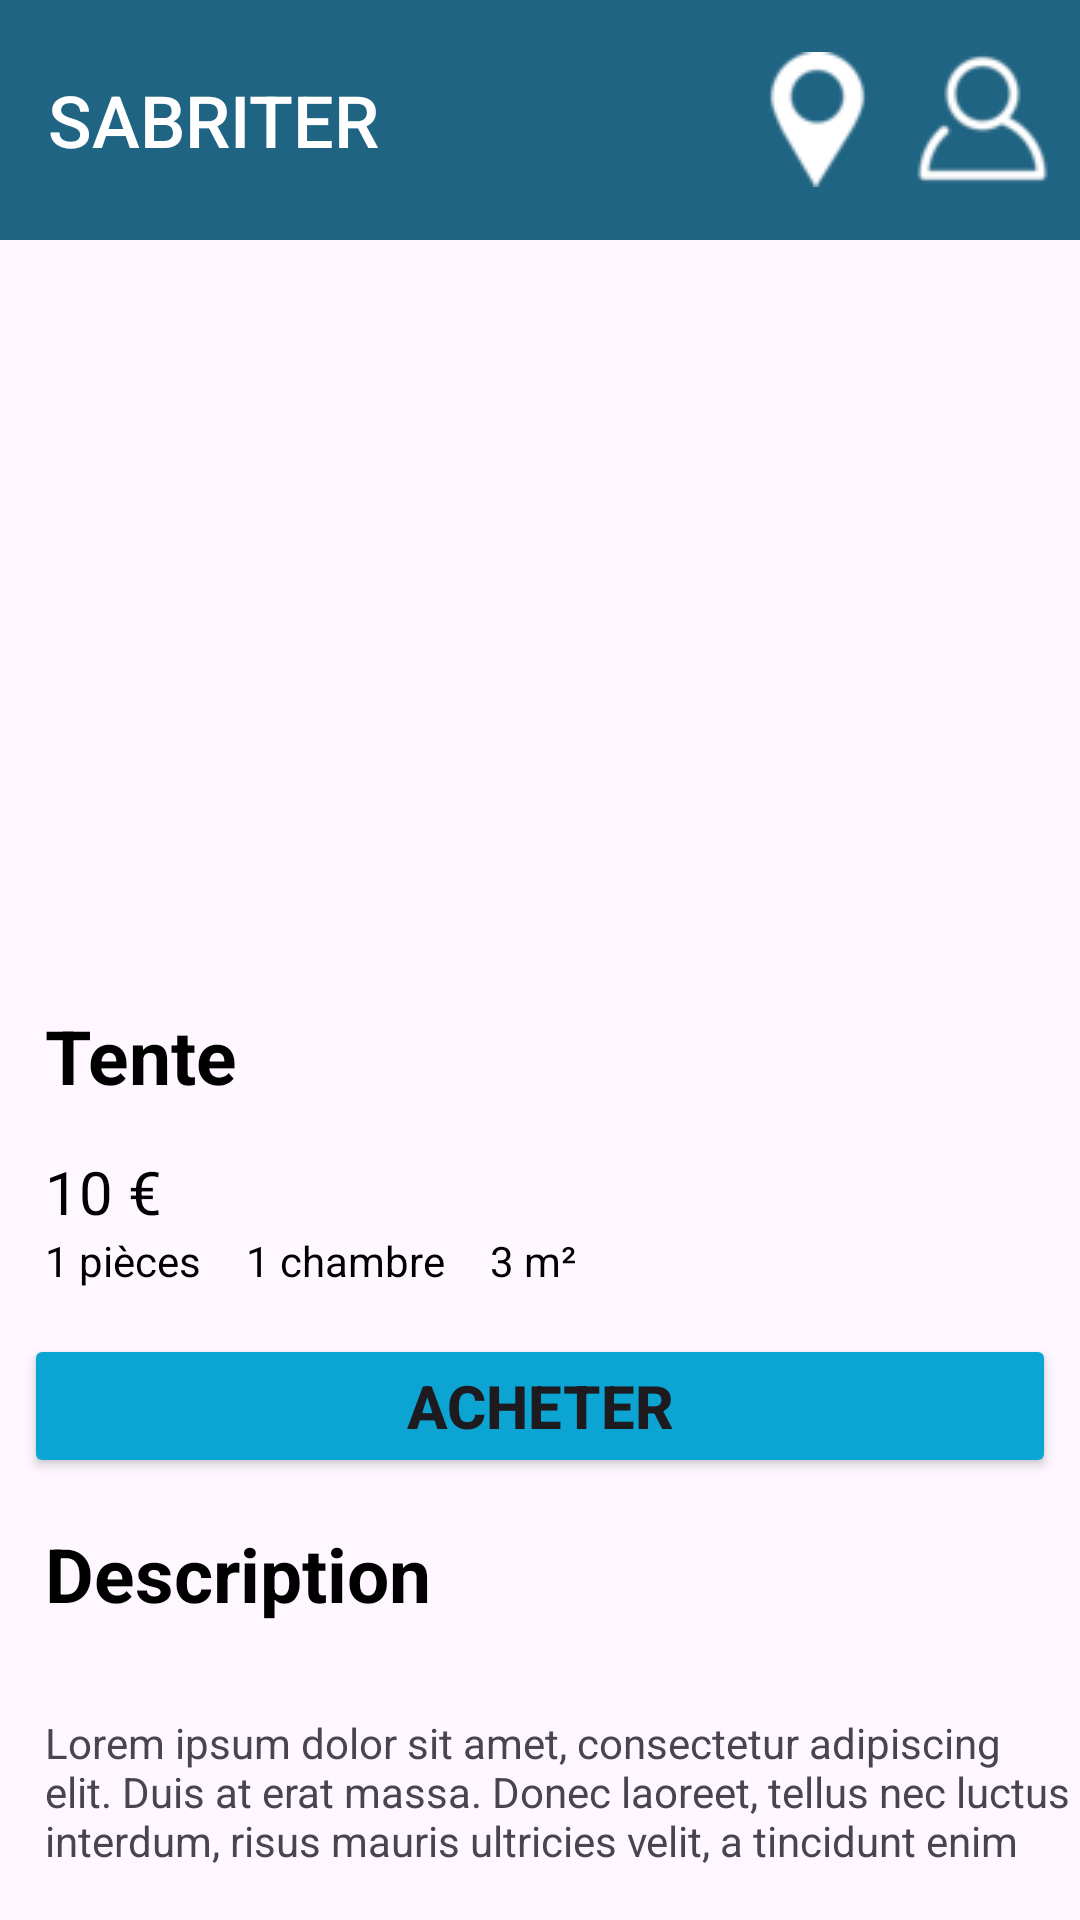

Icons on this 1080px x 1920px Android screen, each with its box as (x1, y1, x2, y2):
loc: (770, 52, 865, 187)
profile: (917, 56, 1048, 181)
